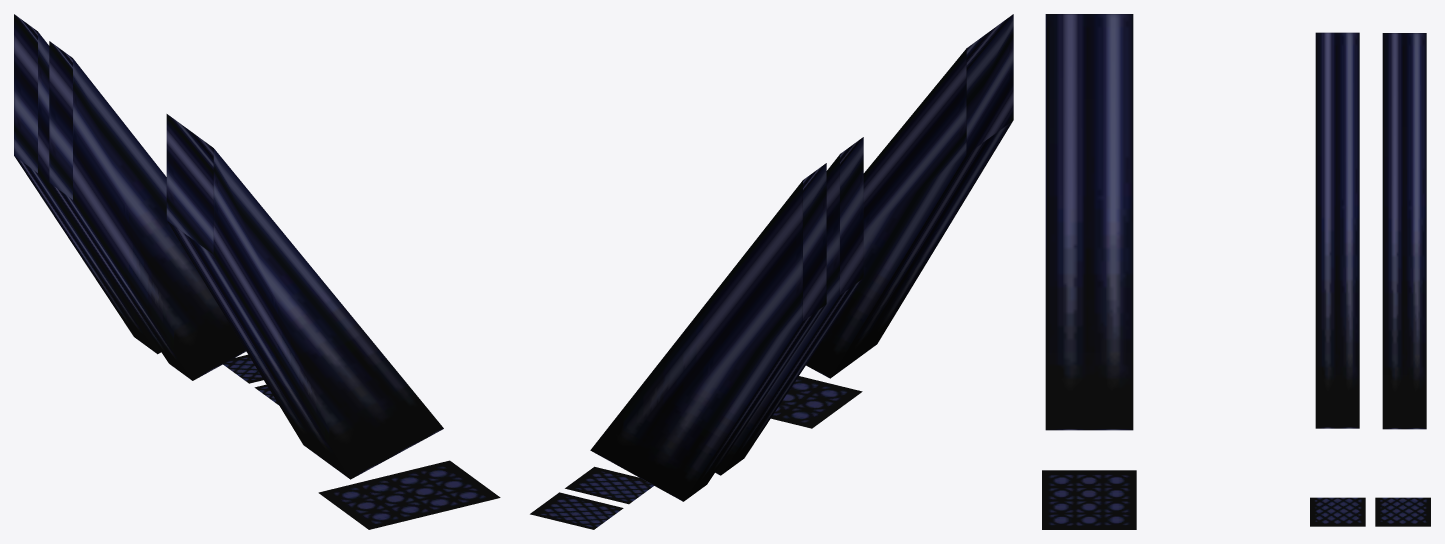
Rendered from LAKETOWN_GRANDMA_PS_GM_LIGHTSHAFTS95958__GX.fbx.
The picture shows the model from 3 angles, left to right: view 1: azimuth 30°, elevation 25°; view 2: azimuth 150°, elevation 25°; view 3: azimuth 270°, elevation 25°; orthographic projection. The views are drawn at different scales.
Parts seen in each view (by area): view 1: LAKETOWN_GRANDMA_PS_GM_LIGHTSHAFTS95958__GX; view 2: LAKETOWN_GRANDMA_PS_GM_LIGHTSHAFTS95958__GX; view 3: LAKETOWN_GRANDMA_PS_GM_LIGHTSHAFTS95958__GX.
Boxes of the visible parts, <box> form: LAKETOWN_GRANDMA_PS_GM_LIGHTSHAFTS95958__GX: <box>14,14,500,529</box>; LAKETOWN_GRANDMA_PS_GM_LIGHTSHAFTS95958__GX: <box>530,14,1013,529</box>; LAKETOWN_GRANDMA_PS_GM_LIGHTSHAFTS95958__GX: <box>1042,14,1430,529</box>.
Bounding box in the file's own units: 40921 × 57310 × 52174.
3 materials, 3 textured.
